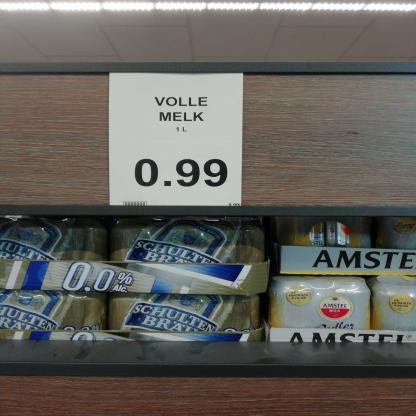prtg: (108, 73, 246, 207)
